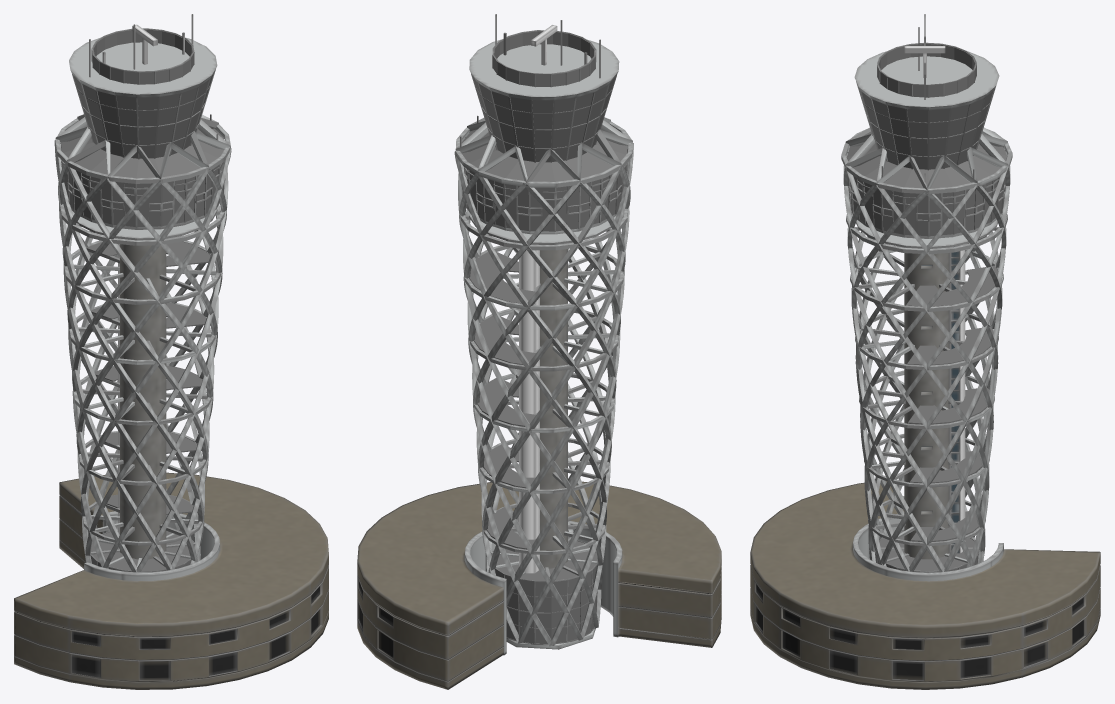
The model's file is Tower.fbx.
3 renders of one model, left to right at view 1: azimuth 30°, elevation 25°; view 2: azimuth 150°, elevation 25°; view 3: azimuth 270°, elevation 25°, orthographic. The views are drawn at different scales.
Visible parts, largest first — view 1: BezierCircle.026; view 2: BezierCircle.026; view 3: BezierCircle.026.
Boxes of the visible parts, x1=… form: BezierCircle.026: x1=14, y1=14, x2=328, y2=689; BezierCircle.026: x1=357, y1=14, x2=721, y2=689; BezierCircle.026: x1=750, y1=14, x2=1100, y2=689.
Bounding box in the file's own units: 20.78 × 38.45 × 20.98.
Materials: 1 (1 with a texture image).
